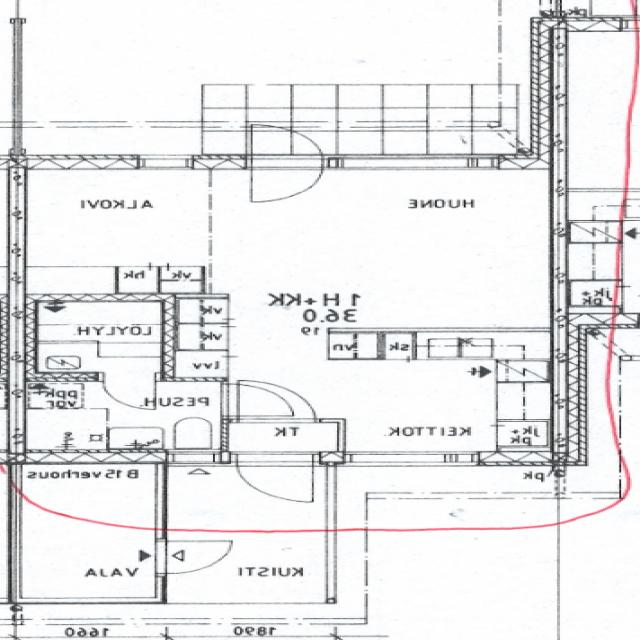door: (238, 452, 314, 506), (252, 154, 324, 206), (252, 118, 324, 169), (240, 379, 316, 422), (156, 540, 230, 574), (222, 384, 290, 416), (106, 373, 156, 408)
